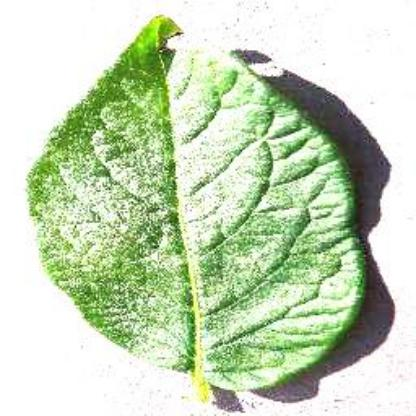Healthy-plant: (16, 13, 380, 403)
